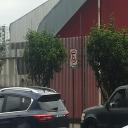NoEstacionar: (70, 48, 78, 70)
